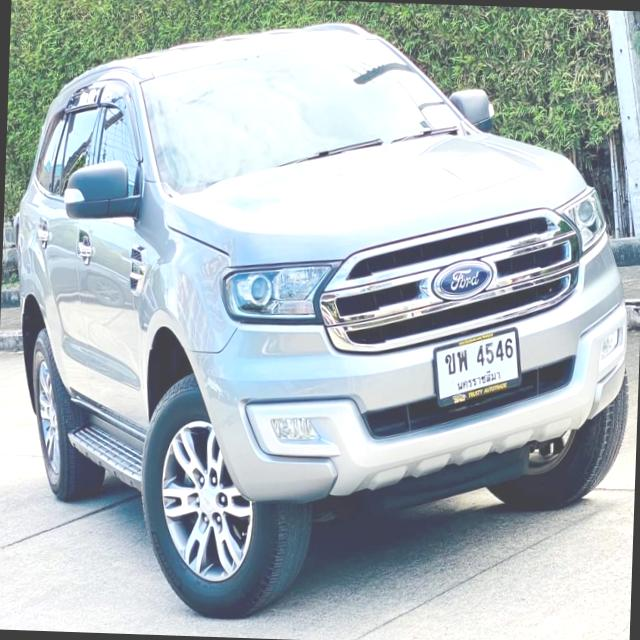license_plate: (429, 321, 524, 414)
